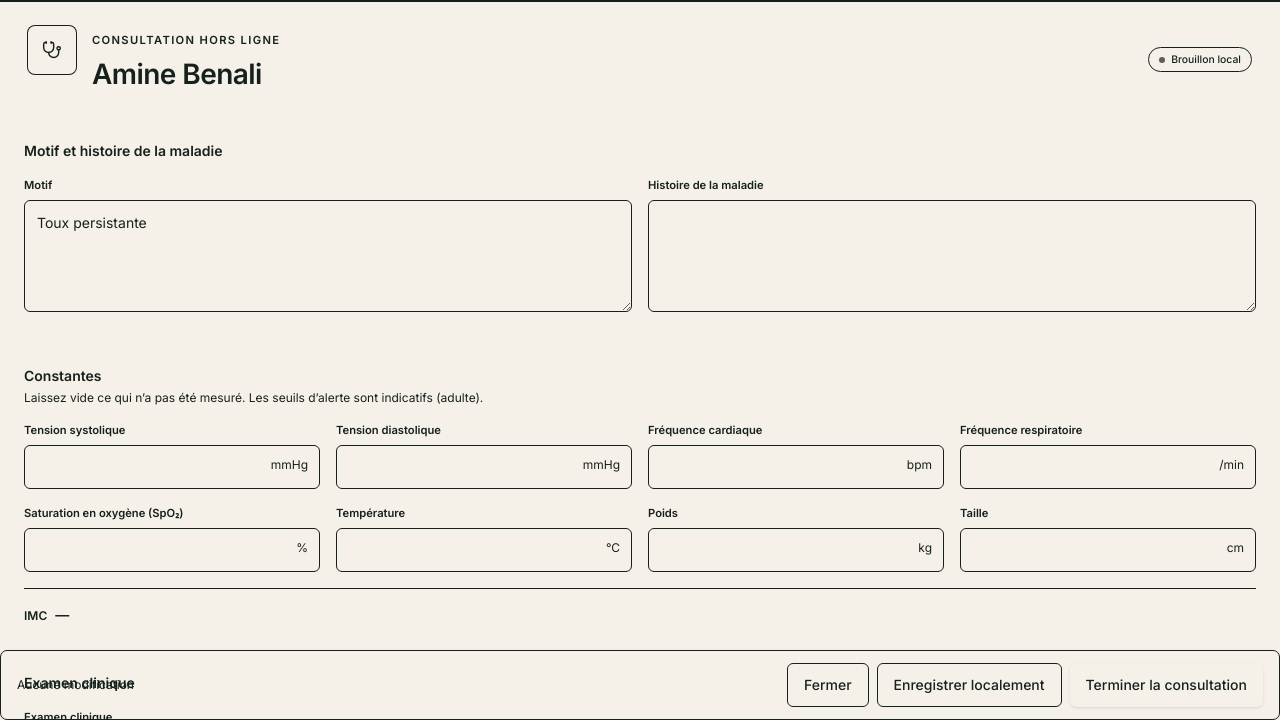
Test case: the vital signs section › shows the units in the fields and computes the BMI
The width and height of the screenshot is (1280, 720).
Check: the text "mmHg" is shown 2 times, box top-left (271, 457), bottom-right (308, 473); top-left (583, 457), bottom-right (620, 473)
Check: the text "bpm" is shown, box top-left (907, 457), bottom-right (932, 473)
Type "70" into the field labelled "Poids kg" at coordinates (796, 550), box top-left (648, 528), bottom-right (944, 572)
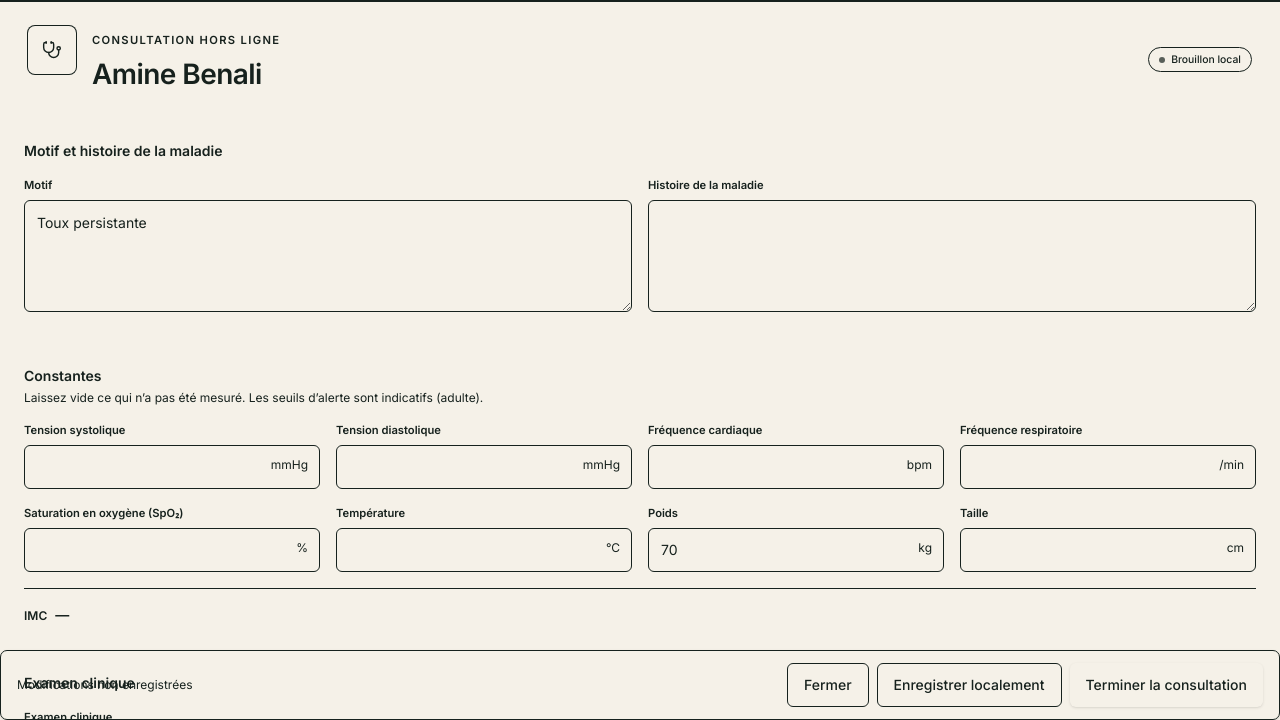
Type "175" into the field labelled "Taille cm" at coordinates (1108, 550), box top-left (960, 528), bottom-right (1256, 572)
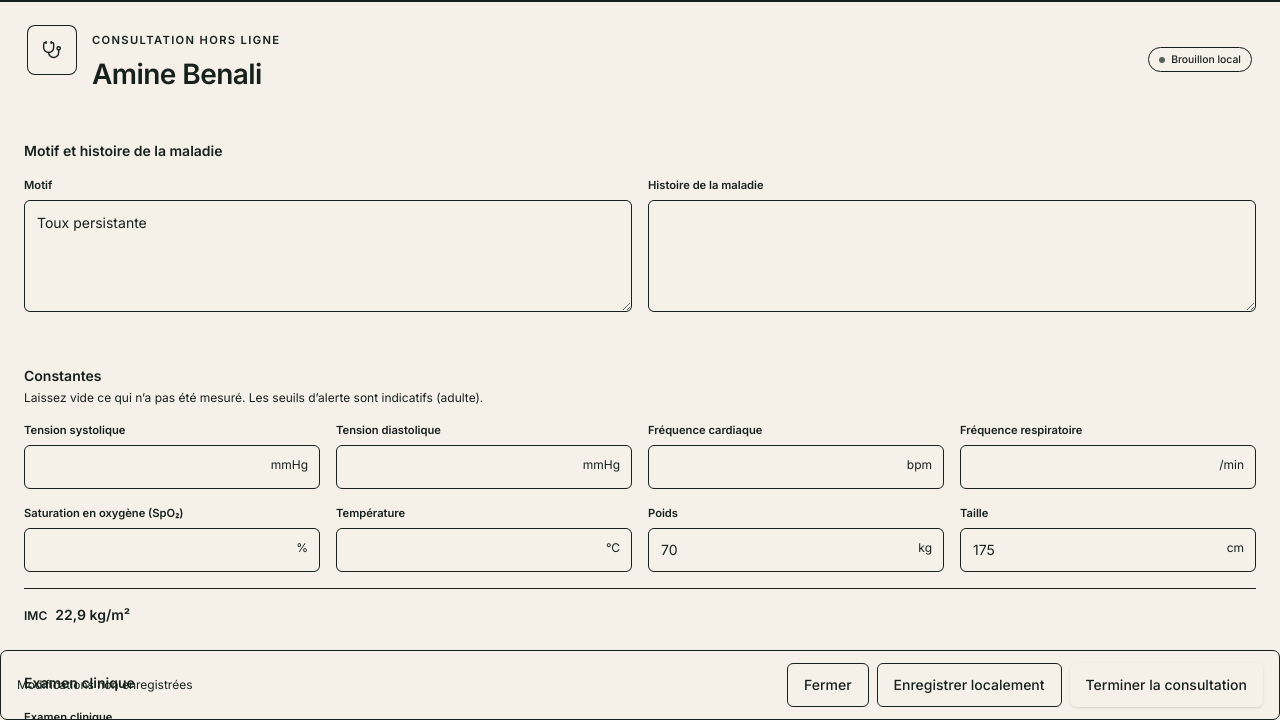
Check: the text "22,9 kg/m²" is shown, box top-left (55, 605), bottom-right (130, 625)
